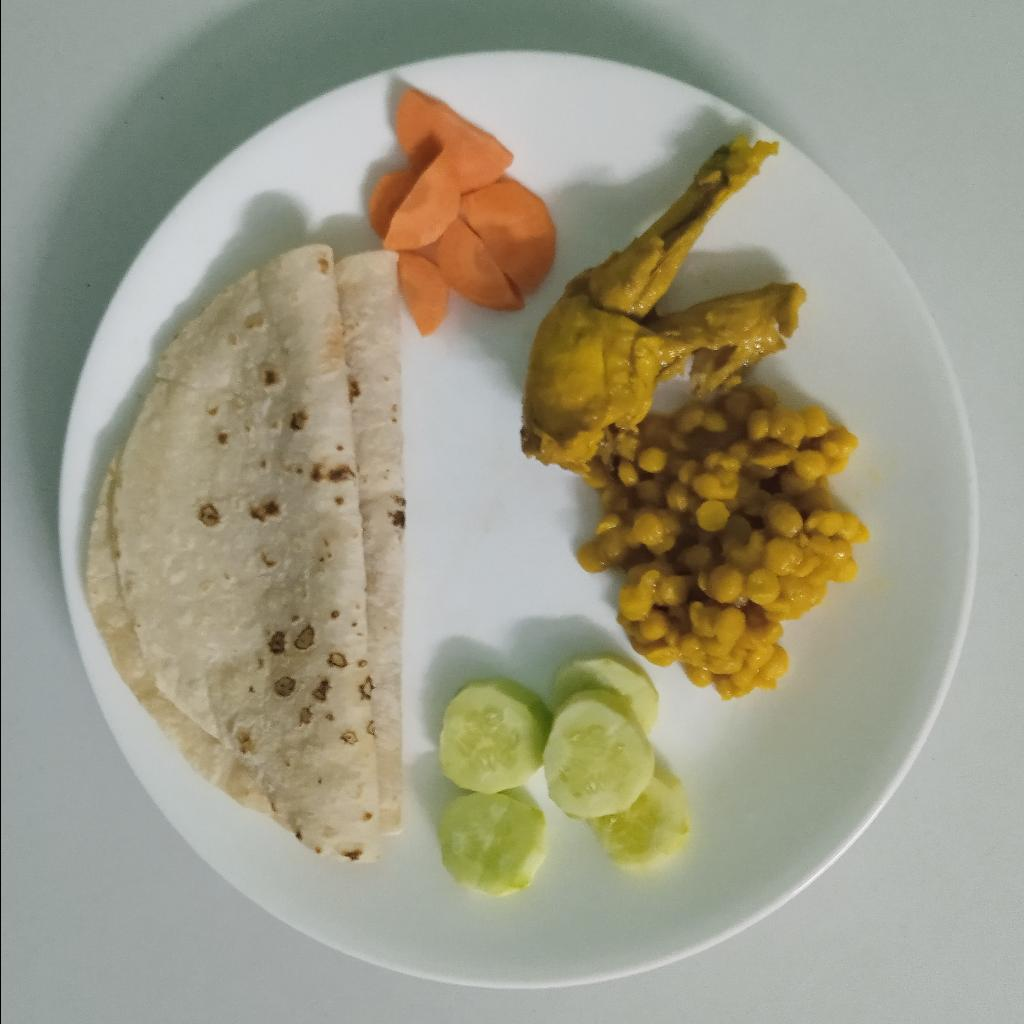carrot: (363, 87, 560, 336)
chicken: (516, 138, 806, 473)
cucumber: (432, 651, 691, 903)
daal: (572, 386, 870, 697)
ruti: (79, 240, 411, 866)
